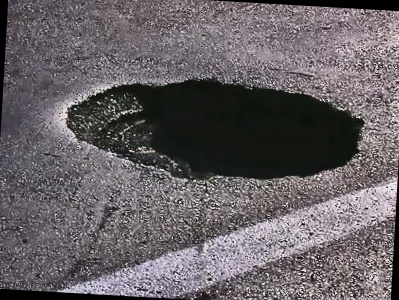pothole: (54, 65, 370, 192)
